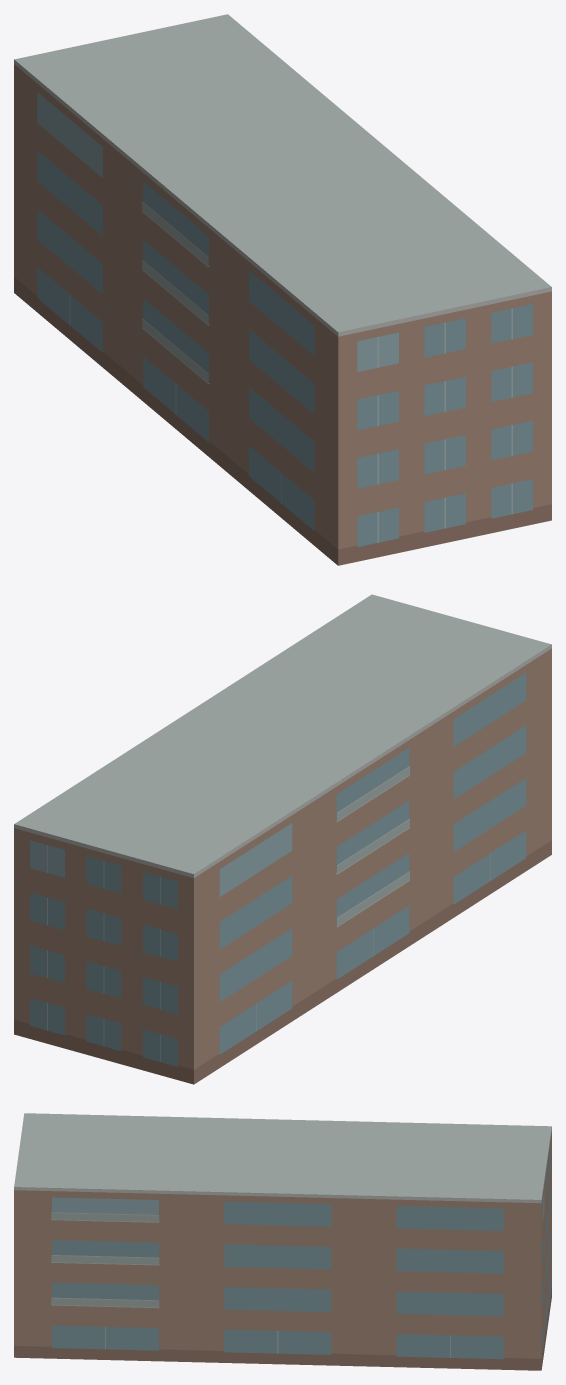
File: survey-upis-32810024.glb
3 views of the same model, one above another, from view 1: azimuth 30°, elevation 25°; view 2: azimuth 150°, elevation 25°; view 3: azimuth 270°, elevation 25° (orthographic). The views are drawn at different scales.
Parts seen in each view (by area): view 1: survey-upis-32810024.tmp; view 2: survey-upis-32810024.tmp; view 3: survey-upis-32810024.tmp.
Part boxes in pixels (bbox=[...]): survey-upis-32810024.tmp: bbox=[14, 14, 551, 565]; survey-upis-32810024.tmp: bbox=[14, 594, 551, 1084]; survey-upis-32810024.tmp: bbox=[14, 1113, 551, 1370].
Bounding box in the file's own units: 14.08 × 12.9 × 36.84.
